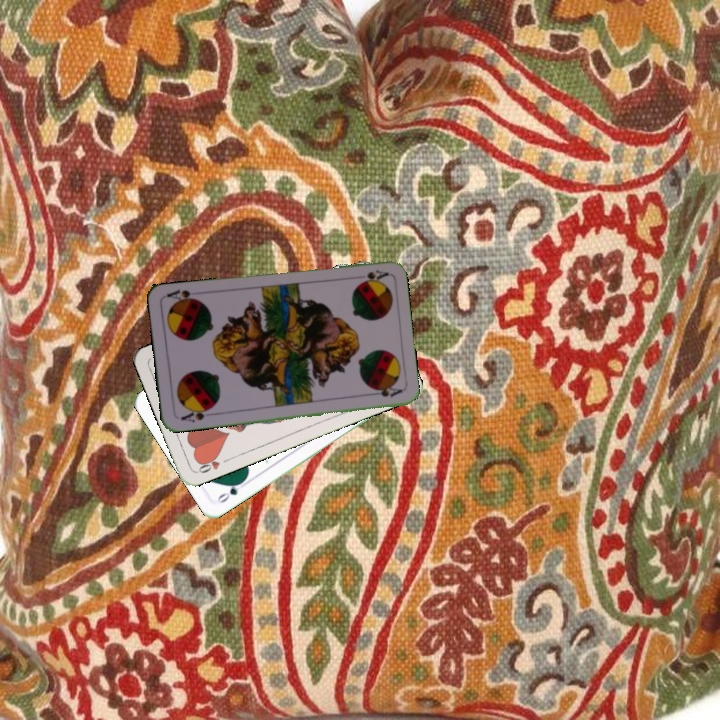GO: (213, 476, 249, 506)
HO: (193, 451, 232, 476)
SA: (177, 403, 216, 425), (356, 266, 390, 285)
